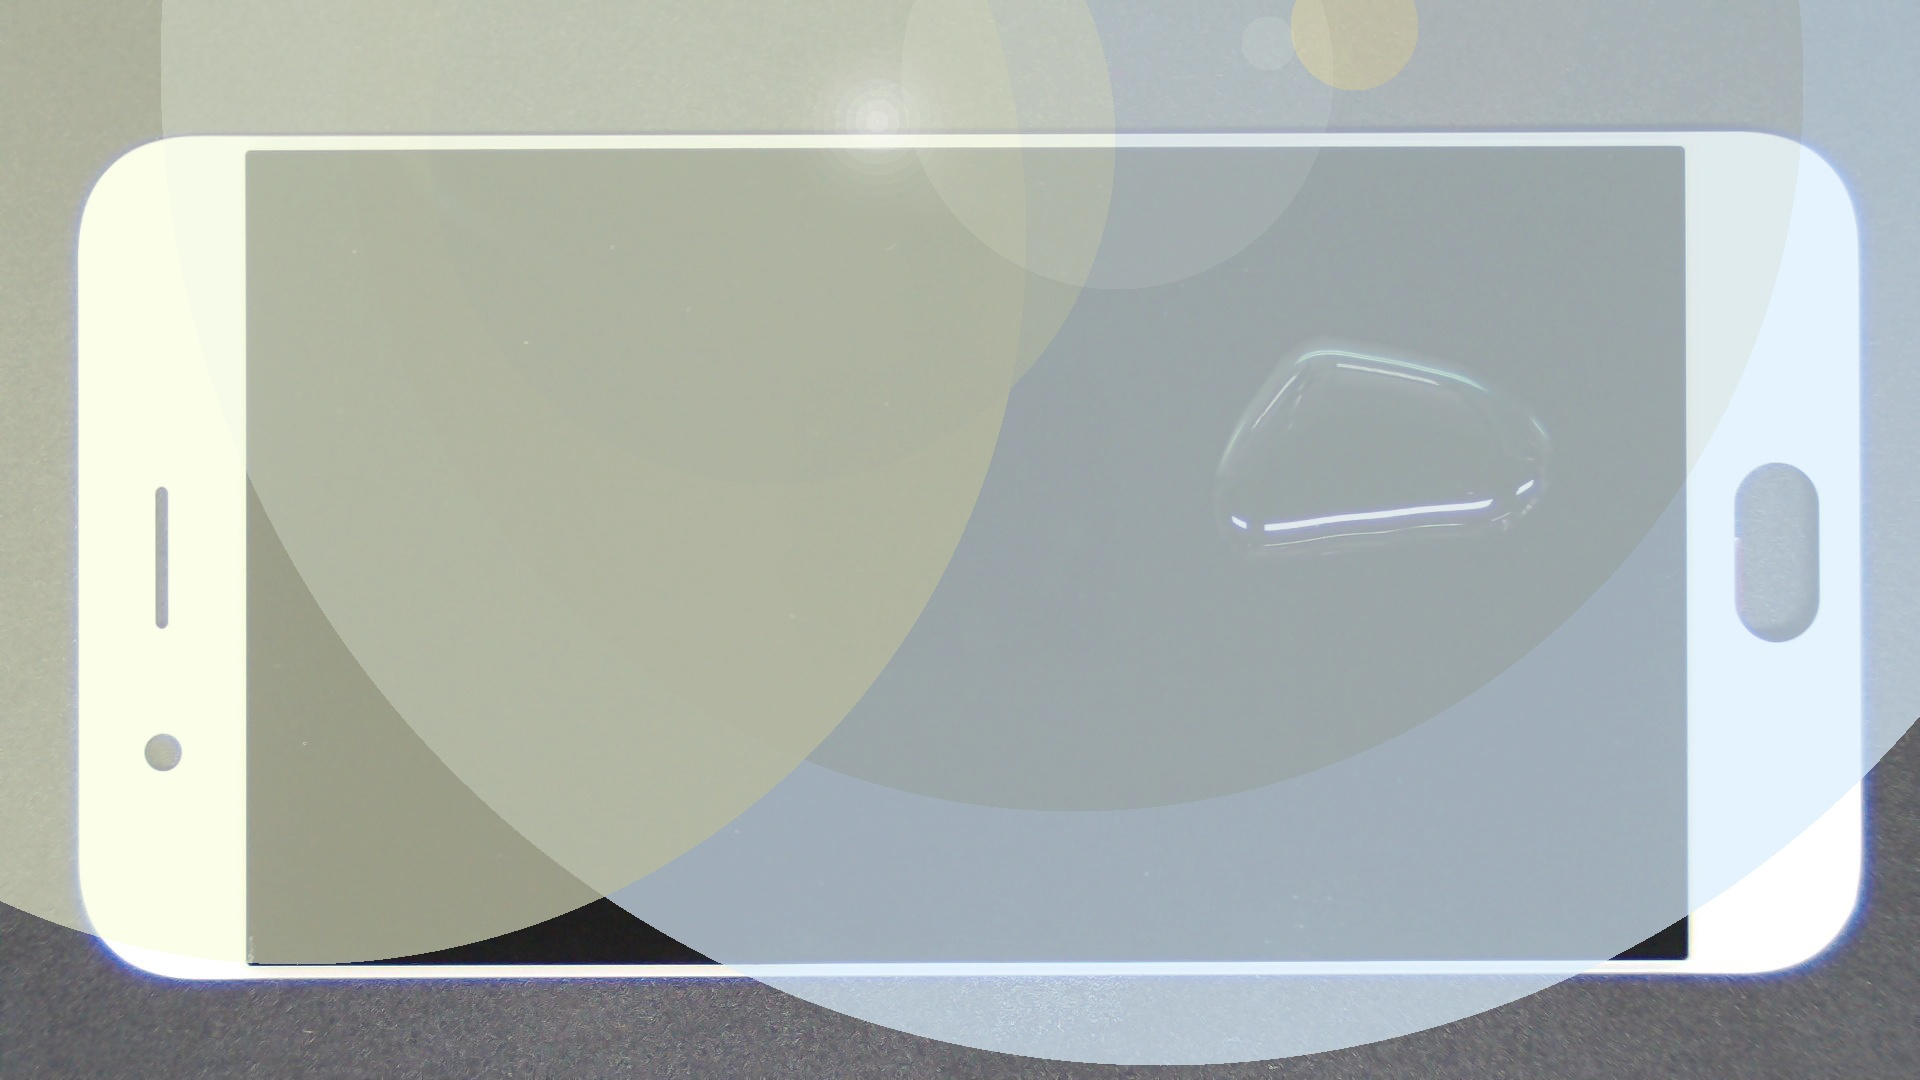oil: (666, 167, 1920, 502)
